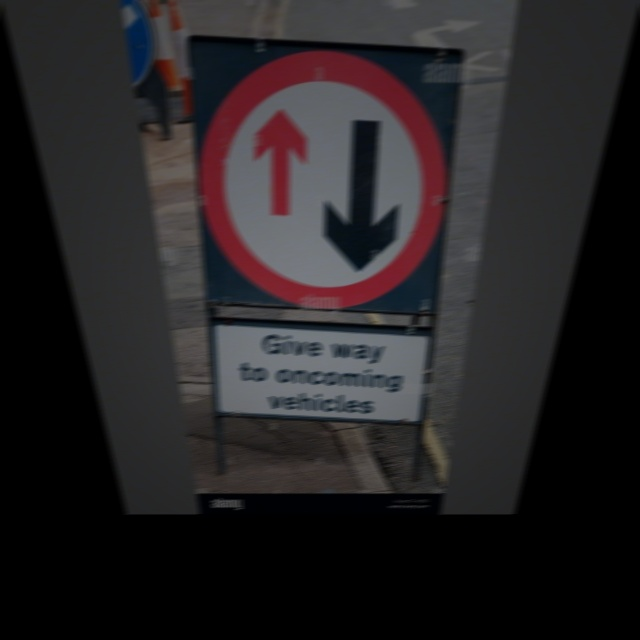Priority_for_Oncoming_Traffic: (186, 48, 466, 309)
